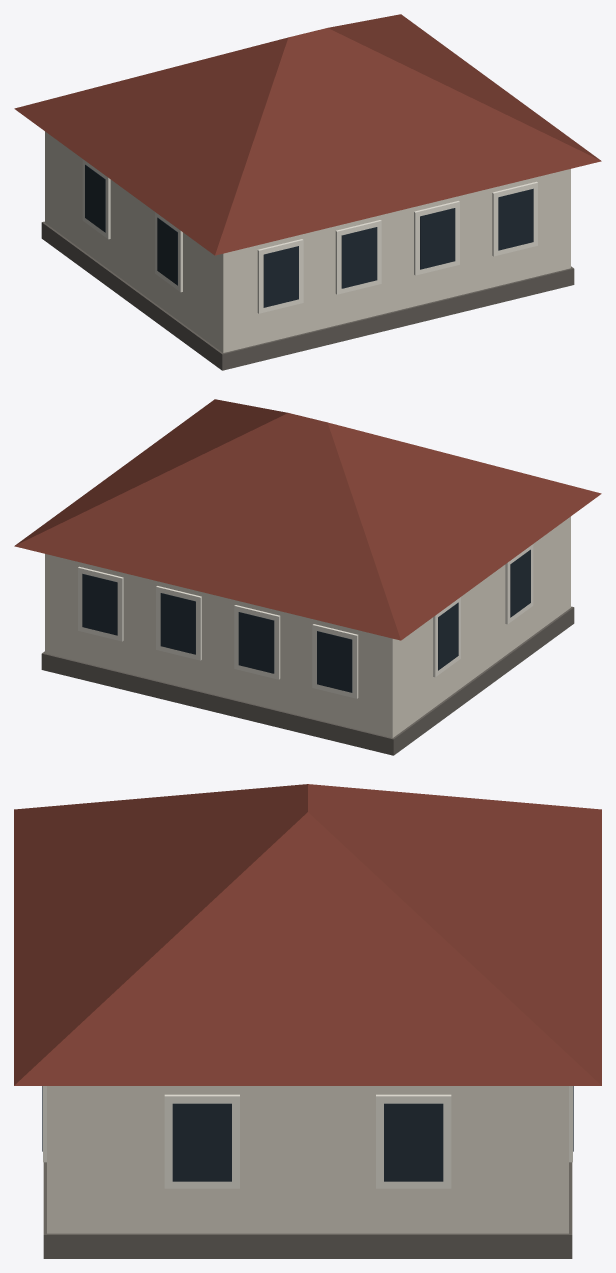
File: white_house.glb
3 renders of one model, top to bottom at view 1: azimuth 30°, elevation 25°; view 2: azimuth 150°, elevation 25°; view 3: azimuth 270°, elevation 25°, orthographic. The views are drawn at different scales.
Visible parts, largest first — view 1: white_house; view 2: white_house; view 3: white_house.
Boxes of the visible parts, <box> form: white_house: <box>14,14,601,370</box>; white_house: <box>14,399,601,755</box>; white_house: <box>14,784,601,1258</box>.
Size of the model in its own units: 9.9 by 5.6 by 8.9.
